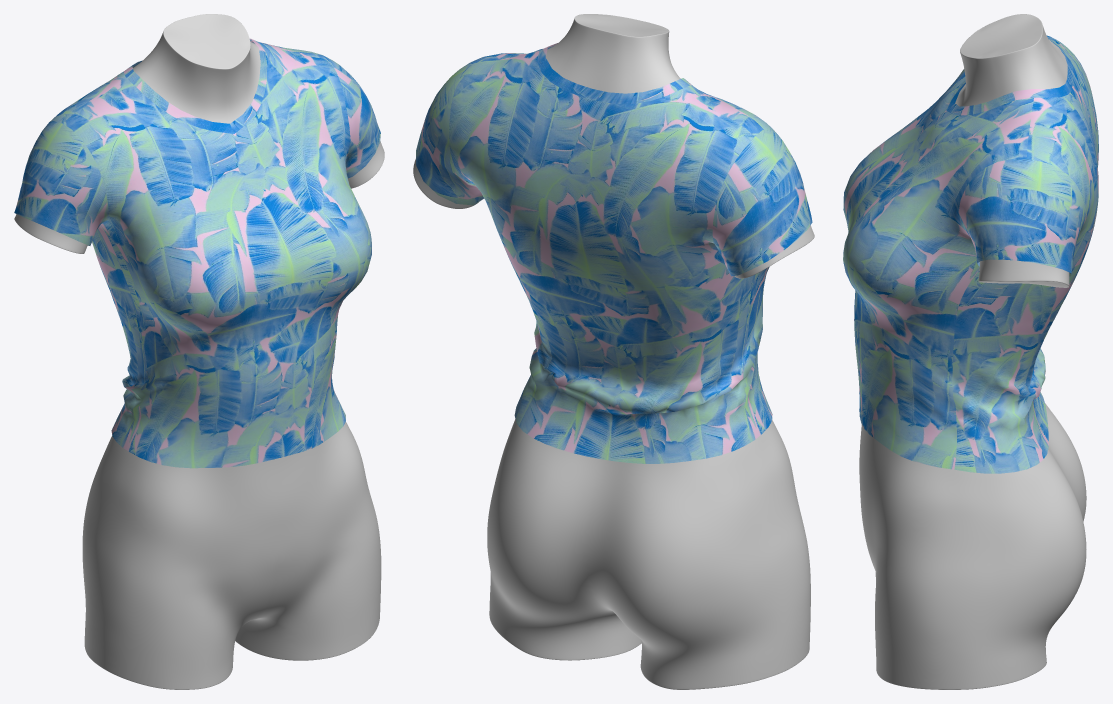
The model's file is dummy4.fbx.
3 renders of one model, left to right at view 1: azimuth 30°, elevation 25°; view 2: azimuth 150°, elevation 25°; view 3: azimuth 270°, elevation 25°, orthographic. The views are drawn at different scales.
Parts seen in each view (by area): view 1: 60, Obj_Avatar_Shape, 62, 21, 31, Pattern2D_3805017, Pattern2D_3805018, 63; view 2: 21, Obj_Avatar_Shape, 63, 30, 60, 62, Pattern2D_3805002; view 3: Obj_Avatar_Shape, 60, 21, 31, 30, Pattern2D_3805018, Pattern2D_3805002.
Part boxes in pixels (x1=…): 60: x1=62, y1=42, x2=371, y2=468; Obj_Avatar_Shape: x1=14, y1=14, x2=384, y2=689; 62: x1=18, y1=122, x2=108, y2=245; 21: x1=50, y1=40, x2=325, y2=451; 31: x1=325, y1=56, x2=380, y2=178; Pattern2D_3805017: x1=125, y1=71, x2=233, y2=133; Pattern2D_3805018: x1=230, y1=39, x2=267, y2=133; 63: x1=14, y1=121, x2=58, y2=214; 21: x1=449, y1=50, x2=762, y2=463; Obj_Avatar_Shape: x1=413, y1=14, x2=814, y2=689; 63: x1=712, y1=141, x2=797, y2=276; 30: x1=416, y1=65, x2=483, y2=205; 60: x1=474, y1=47, x2=772, y2=433; 62: x1=751, y1=128, x2=812, y2=239; Pattern2D_3805002: x1=537, y1=47, x2=681, y2=103; Obj_Avatar_Shape: x1=859, y1=14, x2=1086, y2=689; 60: x1=843, y1=69, x2=1033, y2=469; 21: x1=952, y1=35, x2=1098, y2=473; 31: x1=958, y1=159, x2=1033, y2=266; 30: x1=1030, y1=160, x2=1084, y2=276; Pattern2D_3805018: x1=946, y1=89, x2=1033, y2=115; Pattern2D_3805002: x1=1033, y1=40, x2=1072, y2=97.
Size of the model in its own units: 0.6039 by 0.9764 by 0.3705.
2 materials, 1 textured.
